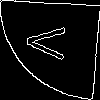V: (25, 25, 77, 61)
